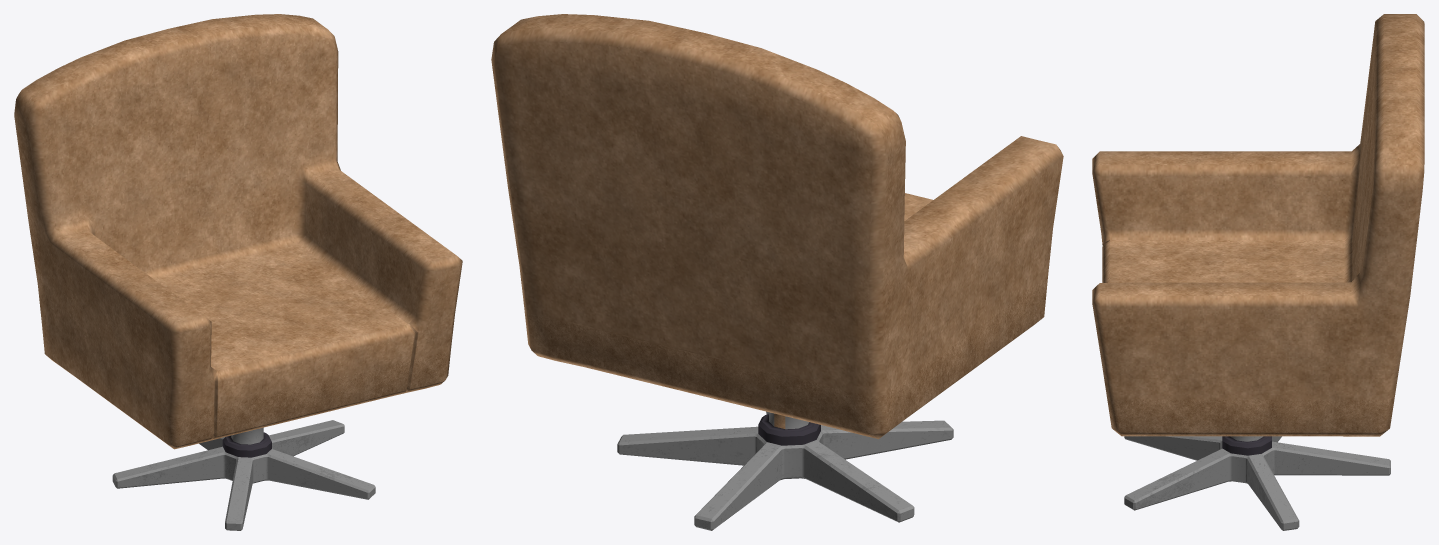
Rendered from armchair.fbx.
3 views of the same model, side by side, from view 1: azimuth 30°, elevation 25°; view 2: azimuth 150°, elevation 25°; view 3: azimuth 270°, elevation 25° (orthographic). The views are drawn at different scales.
Visible parts, largest first — view 1: armchair2; view 2: armchair2; view 3: armchair2.
Part boxes in pixels (box(x1,y1,x2,y2)): armchair2: box(14, 14, 462, 530); armchair2: box(491, 14, 1063, 530); armchair2: box(1092, 14, 1424, 530).
Size of the model in its own units: 0.9349 by 1.12 by 0.8224.
1 material, 1 textured.
